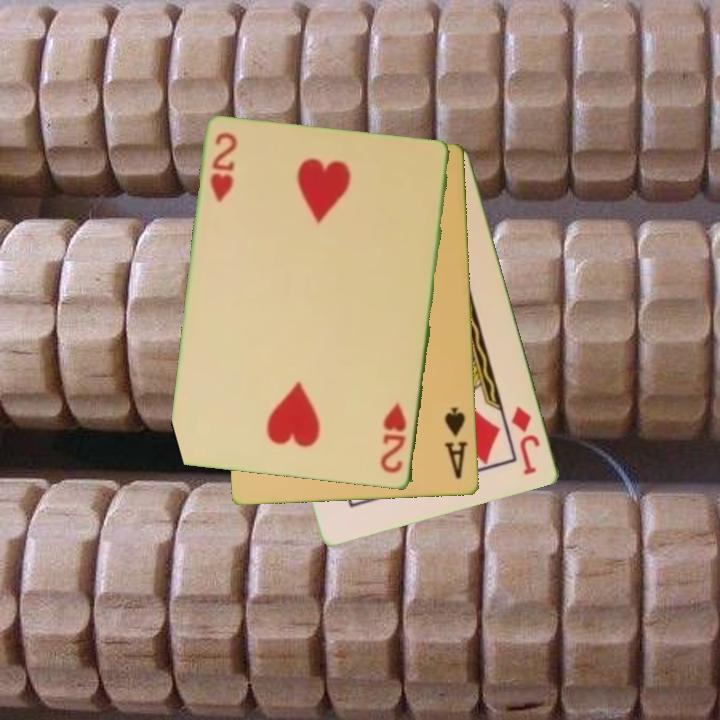2h: (207, 129, 241, 206), (377, 399, 410, 477)
As: (441, 404, 471, 482)
Jd: (508, 403, 543, 478)
